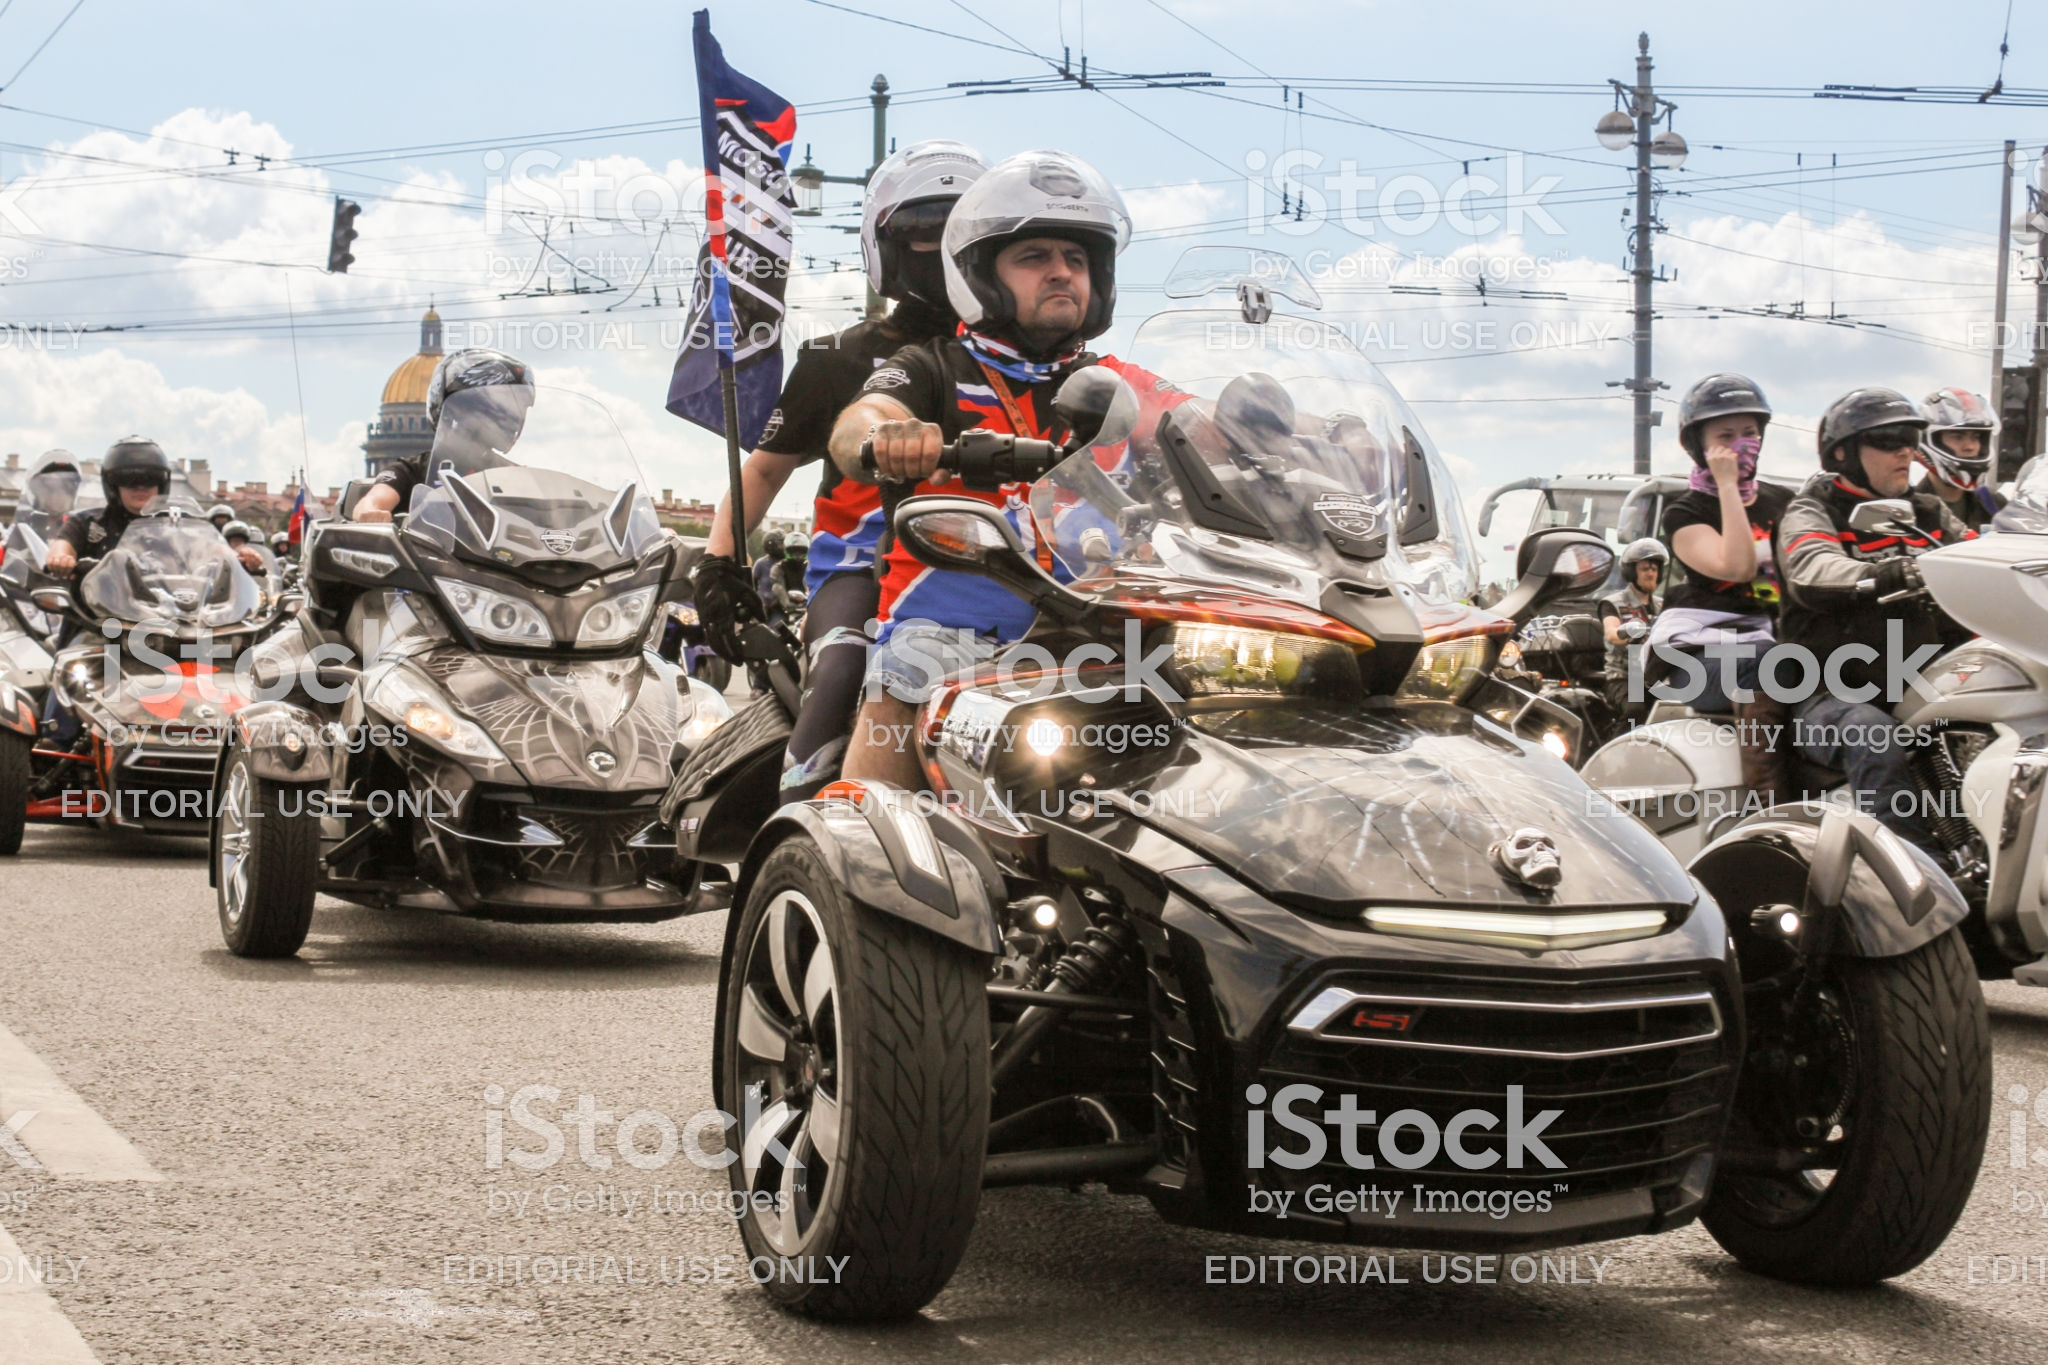helmet: (936, 149, 1140, 312), (836, 142, 987, 277), (420, 353, 542, 431), (1919, 385, 2008, 475), (1676, 358, 1771, 431), (1806, 388, 1916, 448)
